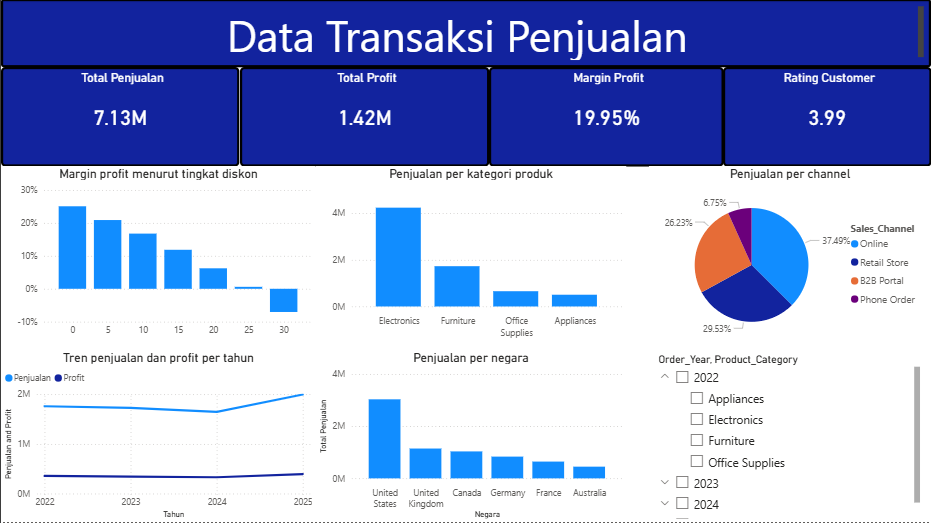

This screenshot's page, from the dashboard's own definition file:
{"tool":"powerbi","page":{"name":"Page 1","canvas":[1280,720],"ordinal":0},"visuals":[{"type":"textbox","box":[0,0,1280,94.1],"z":0},{"type":"card","title":"Total Penjualan","fields":{"Values":["Sum(datfinal.Sales_Amount)"]},"box":[0,93.3,328.3,136.7],"z":1000},{"type":"card","title":"Total Profit","fields":{"Values":["Sum(datfinal.Profit)"]},"box":[328.3,93.3,343.3,136.7],"z":2000},{"type":"card","title":"Margin Profit","fields":{"Values":["datfinal.margin profit"]},"box":[671.7,93.3,323.3,136.7],"z":3000},{"type":"card","title":"Rating Customer","fields":{"Values":["Avg(datfinal.Customer_Rating)"]},"box":[993.3,93.3,286.7,136.7],"z":4000},{"type":"clusteredColumnChart","title":"Margin profit menurut tingkat diskon","fields":{"Category":["datfinal.Discount_Percentage"],"Y":["datfinal.Margin %"]},"box":[0,230,433.3,253.3],"z":5000},{"type":"lineChart","title":"Tren penjualan dan profit per tahun","fields":{"Y":["Sum(datfinal.Sales_Amount)","Sum(datfinal.Profit)"],"Category":["datfinal.Order_Year"]},"box":[0,483.3,433.3,236.7],"z":6000},{"type":"clusteredColumnChart","title":"Penjualan per kategori produk","fields":{"Category":["datfinal.Product_Category"],"Y":["Sum(datfinal.Sales_Amount)"]},"box":[433.3,230,426.7,253.3],"z":7000},{"type":"clusteredColumnChart","title":"Penjualan per negara","fields":{"Category":["datfinal.Country"],"Y":["Sum(datfinal.Sales_Amount)"]},"box":[433.3,483.3,426.7,236.7],"z":8000},{"type":"pieChart","title":"Penjualan per channel","fields":{"Category":["datfinal.Sales_Channel"],"Y":["Sum(datfinal.Sales_Amount)"]},"box":[891.7,230,388.3,253.3],"z":9000},{"type":"slicer","fields":{"Values":["datfinal.Order_Year","datfinal.Product_Category"]},"box":[891.7,483.3,290,236.7],"z":10000}]}

Visuals, with their boxes in screenshot pixels (x1, y1, x2, y2), scaled from the page's 1280x720 canvas onto the 931x523 screenshot:
textbox: select_region(0, 0, 930, 68)
"Total Penjualan" card: select_region(0, 68, 239, 167)
"Total Profit" card: select_region(239, 68, 488, 167)
"Margin Profit" card: select_region(489, 68, 724, 167)
"Rating Customer" card: select_region(722, 68, 930, 167)
"Margin profit menurut tingkat diskon" clusteredColumnChart: select_region(0, 167, 315, 351)
"Tren penjualan dan profit per tahun" lineChart: select_region(0, 351, 315, 522)
"Penjualan per kategori produk" clusteredColumnChart: select_region(315, 167, 626, 351)
"Penjualan per negara" clusteredColumnChart: select_region(315, 351, 626, 522)
"Penjualan per channel" pieChart: select_region(649, 167, 930, 351)
slicer - datfinal.Order_Year x datfinal.Product_Category: select_region(649, 351, 860, 522)
